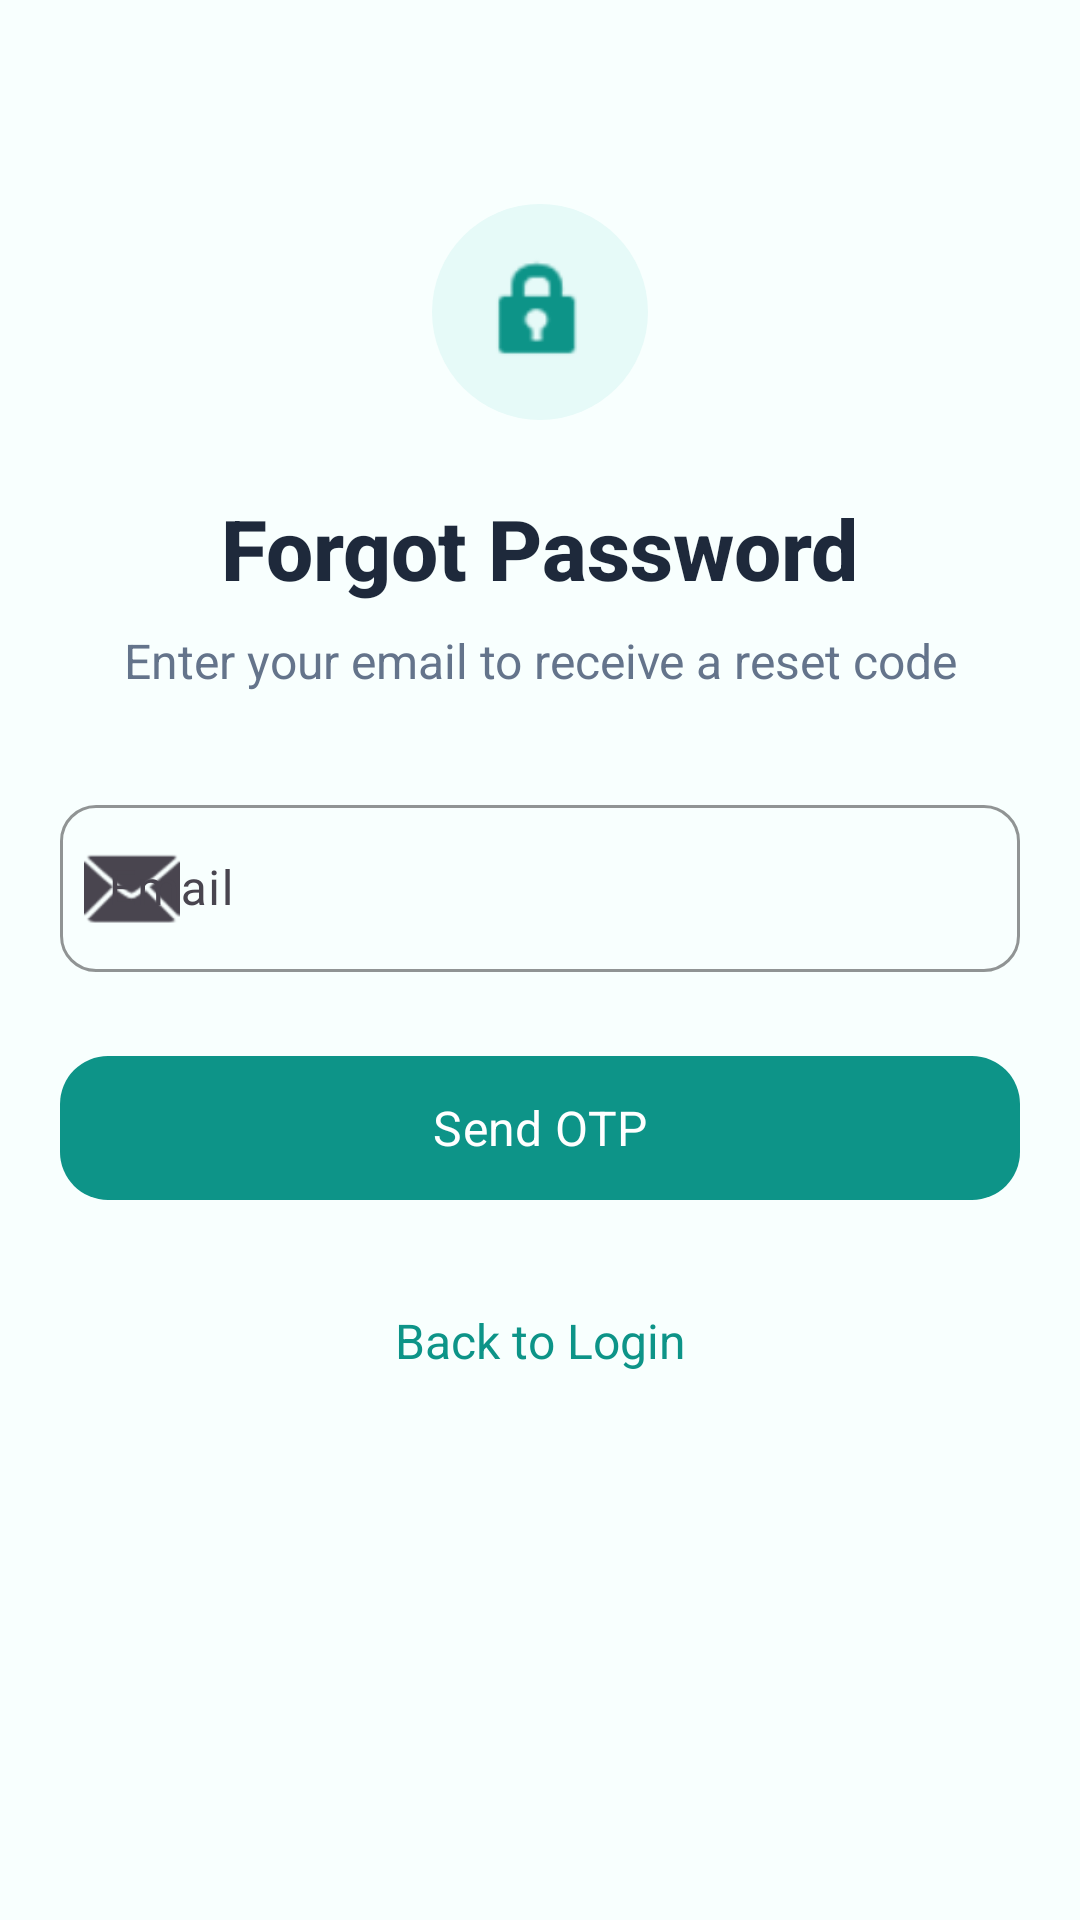

Icon bounding boxes for this 1080px×1920px phone screenshot, format {"x1": x1, "y1": y1, "x2": x2, "y2": y2}:
Reset password: {"x1": 497, "y1": 261, "x2": 577, "y2": 355}
